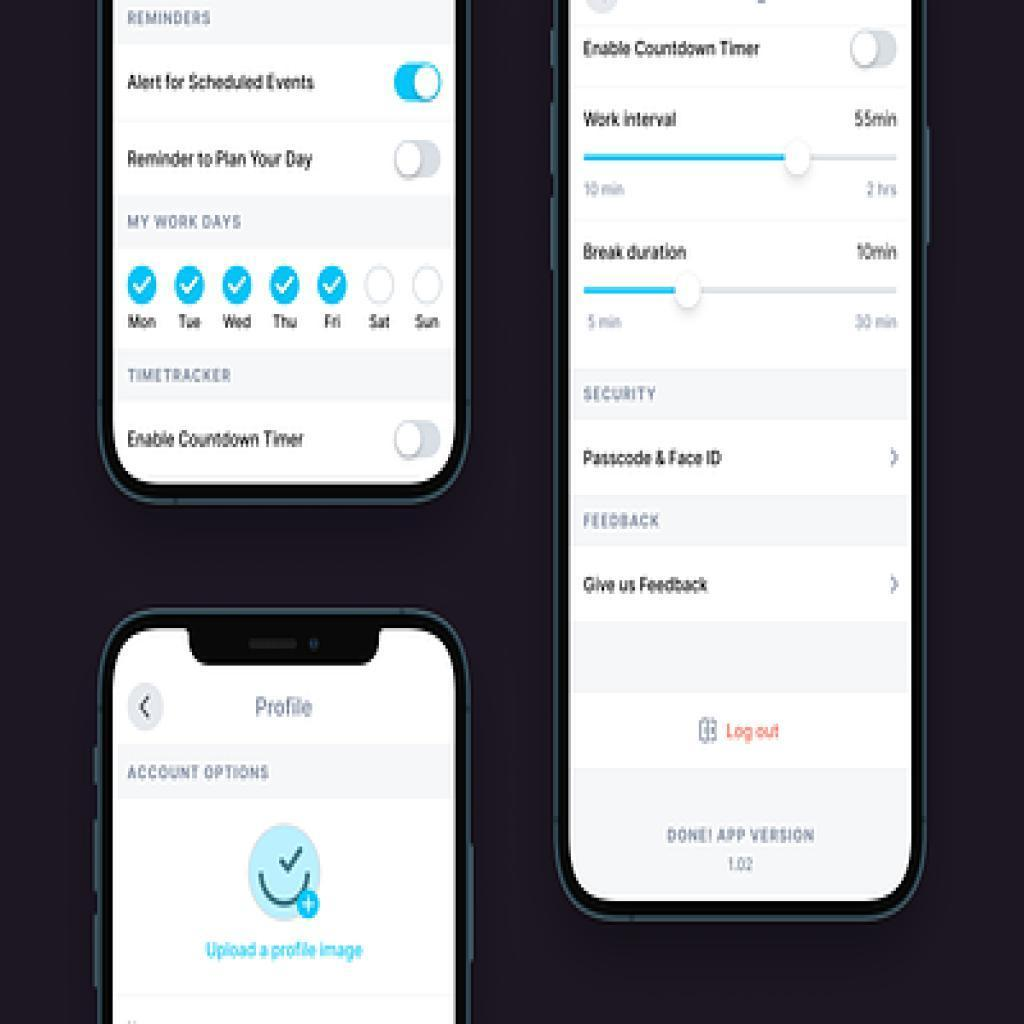checkbox: (316, 263, 346, 307), (222, 267, 254, 306), (175, 266, 206, 306), (127, 268, 158, 307), (271, 266, 299, 306)
dropdown: (572, 421, 910, 497), (572, 551, 911, 621)
radio: (365, 265, 397, 305), (414, 264, 445, 305)
slider: (576, 266, 909, 353), (580, 131, 903, 215)
switch: (843, 20, 900, 82), (390, 411, 447, 471), (389, 55, 447, 109), (395, 138, 446, 184)
